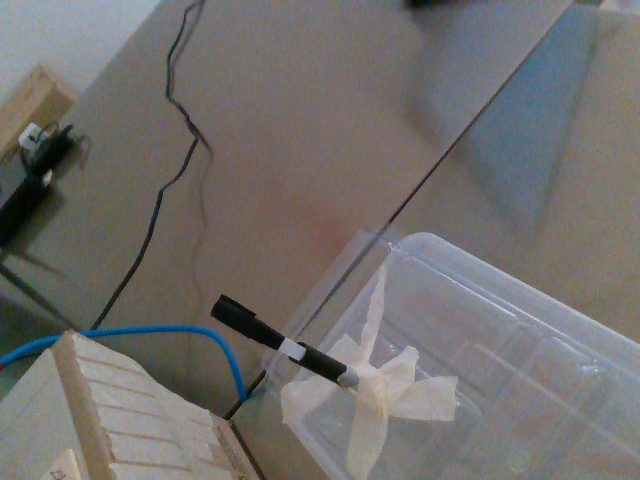test_strip: (208, 293, 305, 363)
